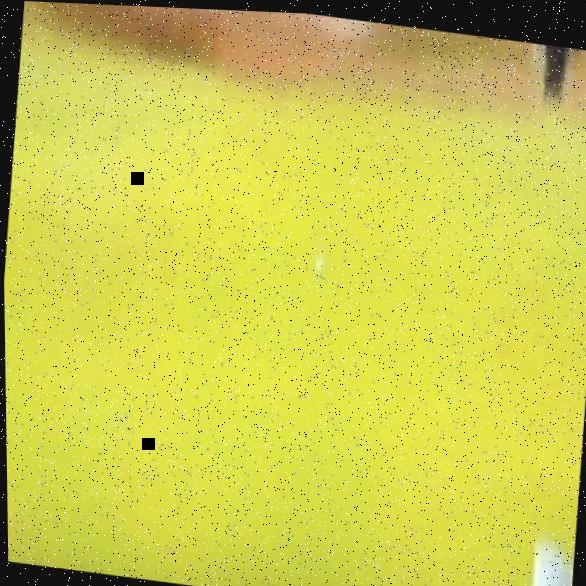GolfBall: (313, 251, 325, 272)
